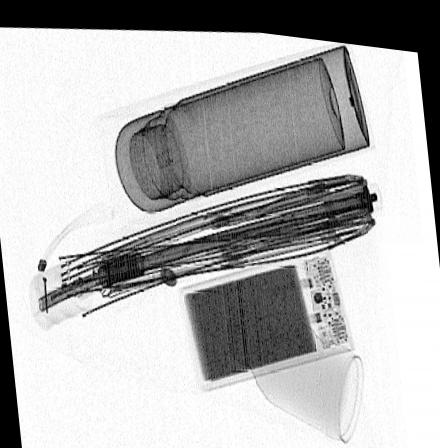Powerbank: (180, 242, 354, 384)
